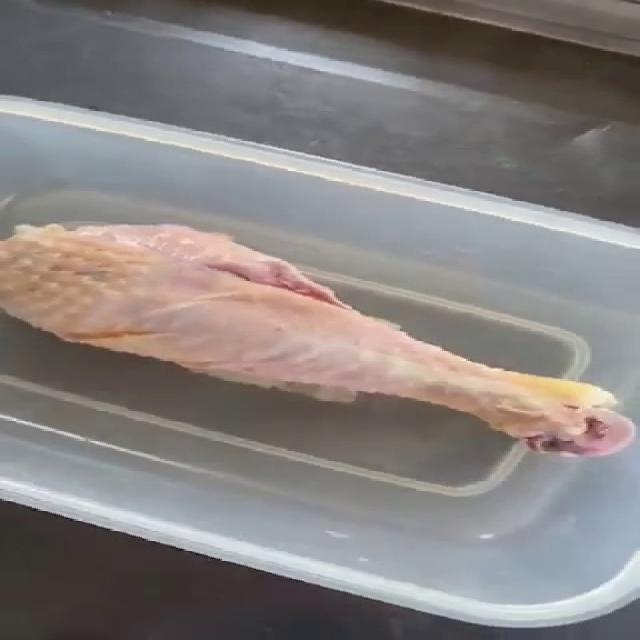chicken: (0, 219, 634, 459)
